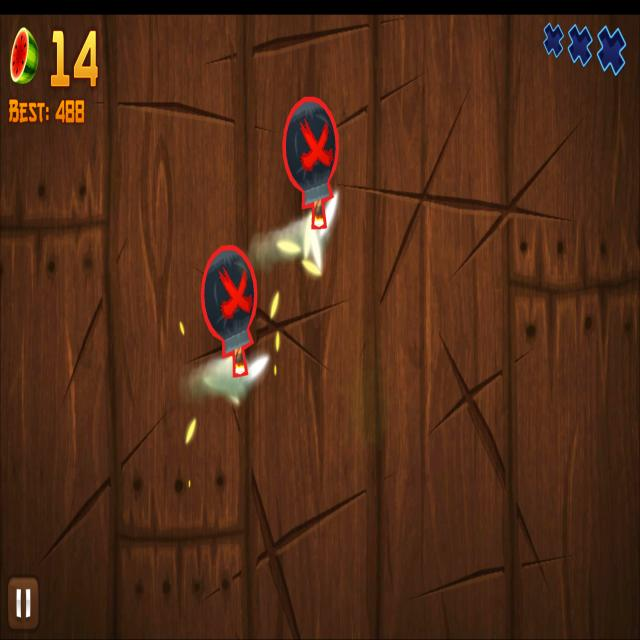bomb: (282, 95, 340, 230), (201, 245, 258, 376)
